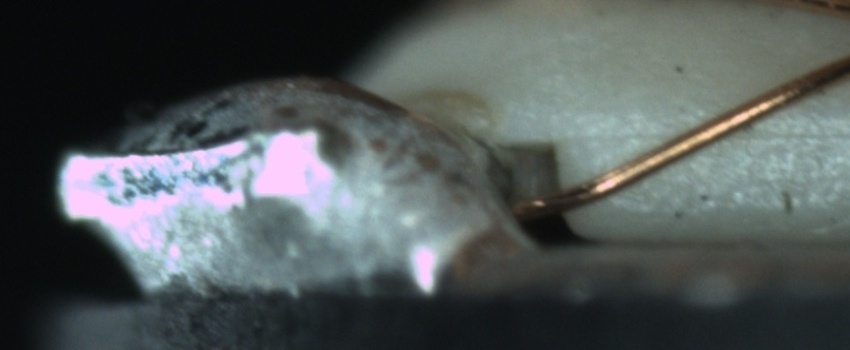DL: (574, 101, 844, 162)
